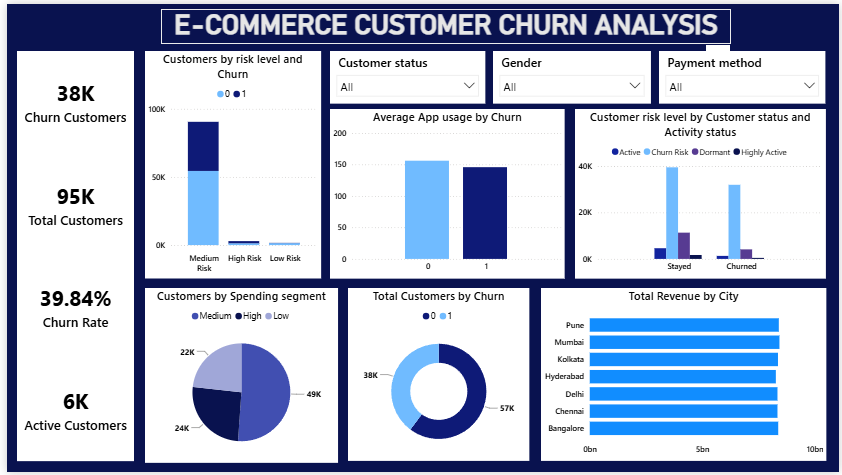

What the dashboard file says about the page in this screenshot:
{"tool":"powerbi","page":{"name":"Page 1","canvas":[1280,720],"ordinal":0},"visuals":[{"type":"cardVisual","fields":{"Data":["E-commerce customer churn.Churn Customers","E-commerce customer churn.Total Customers","E-commerce customer churn.Churn Rate","E-commerce customer churn.Active Customers"]},"box":[15.8,72,180,630.7],"z":0},{"type":"textbox","title":"E-COMMERCE CUSTOMER CHURN ANALYSIS","box":[236.2,7.2,877,54.7],"z":1000},{"type":"donutChart","title":"Total Customers by Churn","fields":{"Y":["E-commerce customer churn.Total Customers"],"Category":["E-commerce customer churn.churn"]},"box":[524.2,436.3,279.4,266.4],"z":2000},{"type":"columnChart","title":"Customers by risk level and Churn","fields":{"Category":["E-commerce customer churn.customer_risk_level"],"Y":["E-commerce customer churn.Total Customers"],"Series":["E-commerce customer churn.churn"]},"box":[211.7,72,270.7,349.9],"z":3000},{"type":"clusteredBarChart","fields":{"Category":["E-commerce customer churn.City"],"Y":["E-commerce customer churn.Total Revenue"]},"box":[820.8,436.3,439.2,266.4],"z":4000},{"type":"columnChart","title":"Average App usage by Churn","fields":{"Category":["E-commerce customer churn.Churn"],"Y":["Avg(E-commerce customer churn.App usage time)"]},"box":[496.8,161.3,361.4,260.6],"z":5000},{"type":"clusteredColumnChart","title":"Customer risk level by Customer status and Activity status","fields":{"Category":["E-commerce customer churn.Customer status"],"Y":["CountNonNull(E-commerce customer churn.Customer risk level)"],"Series":["E-commerce customer churn.Activity status"]},"box":[874.1,161.3,385.9,260.6],"z":6000},{"type":"slicer","fields":{"Values":["E-commerce customer churn.Gender"]},"box":[747.4,72,243.4,80.6],"z":7000},{"type":"slicer","fields":{"Values":["E-commerce customer churn.Payment method"]},"box":[1003.7,72,256.3,80.6],"z":8000},{"type":"pieChart","title":"Customers by Spending segment","fields":{"Y":["E-commerce customer churn.Total Customers"],"Category":["E-commerce customer churn.Spending segment"]},"box":[211.7,436.3,296.6,269.3],"z":9000},{"type":"slicer","fields":{"Values":["E-commerce customer churn.Customer status"]},"box":[496.8,72,239,80.6],"z":10000}]}

Visuals, with their boxes in screenshot pixels (x1, y1, x2, y2), scaled from the page's 1280x720 canvas onto the 842x475 screenshot:
cardVisual - E-commerce customer churn.Churn Customers x E-commerce customer churn.Total Customers: bbox=[10, 48, 129, 464]
"E-COMMERCE CUSTOMER CHURN ANALYSIS" textbox: bbox=[155, 5, 732, 41]
"Total Customers by Churn" donutChart: bbox=[345, 288, 529, 464]
"Customers by risk level and Churn" columnChart: bbox=[139, 48, 317, 278]
clusteredBarChart - E-commerce customer churn.City x E-commerce customer churn.Total Revenue: bbox=[540, 288, 829, 464]
"Average App usage by Churn" columnChart: bbox=[327, 106, 565, 278]
"Customer risk level by Customer status and Activity status" clusteredColumnChart: bbox=[575, 106, 829, 278]
slicer - E-commerce customer churn.Gender: bbox=[492, 48, 652, 101]
slicer - E-commerce customer churn.Payment method: bbox=[660, 48, 829, 101]
"Customers by Spending segment" pieChart: bbox=[139, 288, 334, 466]
slicer - E-commerce customer churn.Customer status: bbox=[327, 48, 484, 101]
